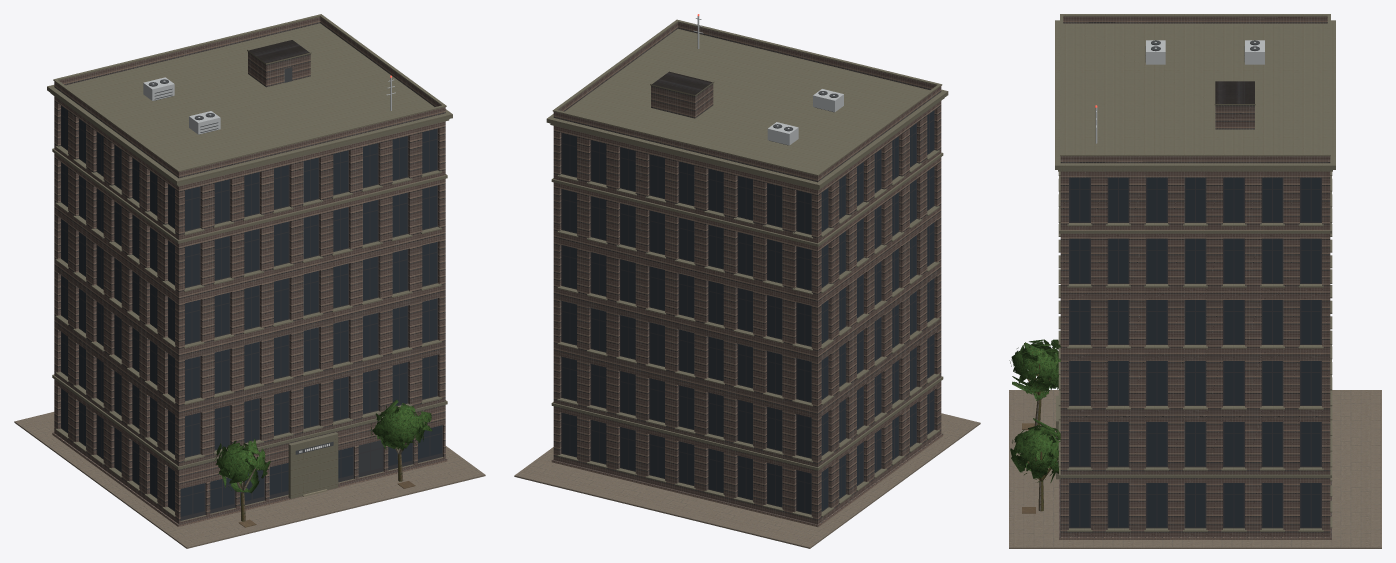
File: office_stone.glb
The picture shows the model from 3 angles, left to right: view 1: azimuth 30°, elevation 25°; view 2: azimuth 150°, elevation 25°; view 3: azimuth 270°, elevation 25°; orthographic projection. The views are drawn at different scales.
Parts seen in each view (by area): view 1: office_stone_body, office_stone_foliage; view 2: office_stone_body; view 3: office_stone_body, office_stone_foliage.
Part boxes in pixels (bbox=[...]): office_stone_body: bbox=[14, 14, 485, 548]; office_stone_foliage: bbox=[214, 399, 432, 493]; office_stone_body: bbox=[514, 14, 980, 548]; office_stone_body: bbox=[1009, 14, 1381, 548]; office_stone_foliage: bbox=[1009, 339, 1060, 482].
Size of the model in its own units: 0.94 by 1.15 by 0.94.
Materials: 18 (9 with a texture image).
